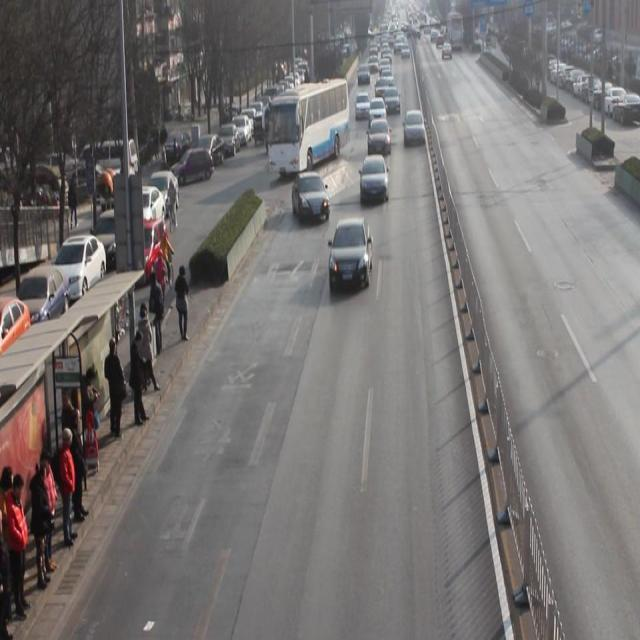car: (328, 215, 372, 288), (291, 169, 330, 222), (359, 154, 389, 204), (367, 117, 391, 154), (402, 109, 425, 146), (368, 96, 385, 136), (354, 91, 372, 120)
van: (268, 80, 348, 181)
